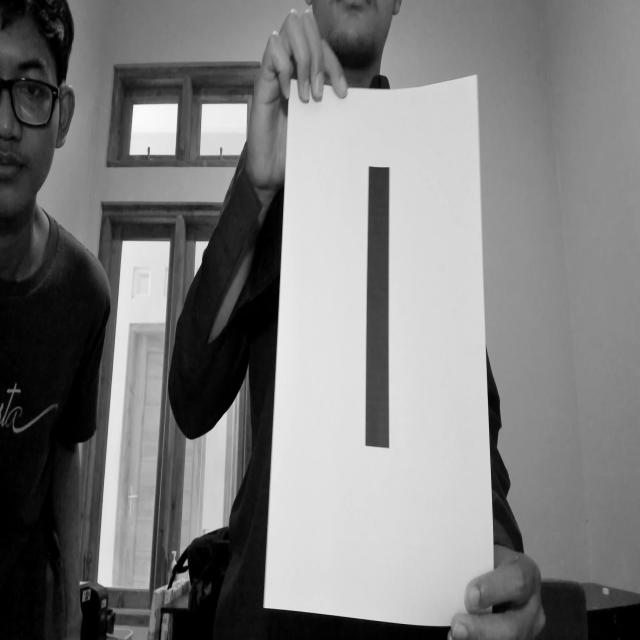i: (349, 128, 420, 540)
